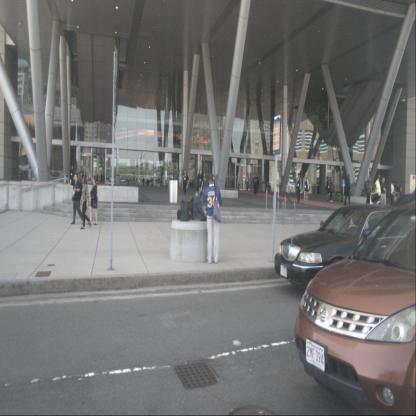human-pedestrian-adult: (202, 172, 223, 264), (189, 180, 212, 248), (70, 173, 85, 225), (80, 174, 92, 230), (88, 175, 99, 226), (369, 184, 379, 224), (364, 175, 372, 210), (344, 174, 352, 207), (380, 176, 387, 212), (182, 169, 190, 196), (389, 180, 396, 210), (303, 174, 310, 204), (296, 172, 302, 204), (197, 168, 204, 194), (253, 173, 258, 196), (330, 176, 334, 204), (326, 176, 330, 203), (69, 166, 75, 183), (245, 173, 250, 193), (251, 172, 255, 193), (399, 183, 403, 201), (257, 173, 260, 194)
vehicle-car: (294, 199, 416, 416), (274, 205, 416, 291)
